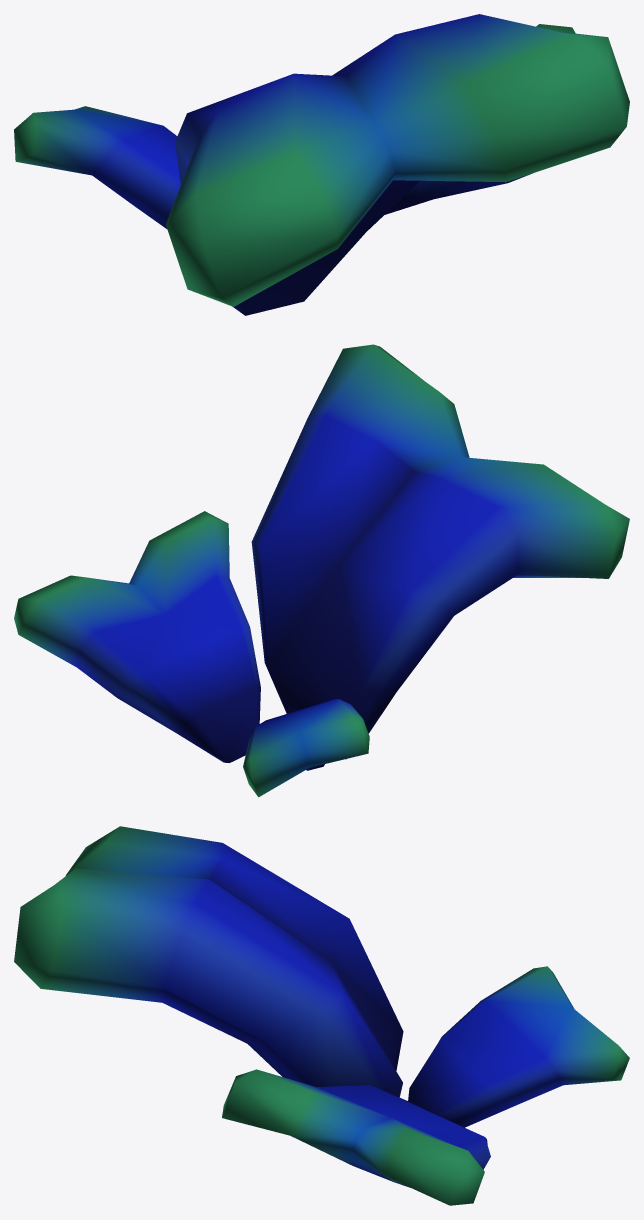
The model's file is Alien_Grass08.fbx.
3 views of the same model, one above another, from view 1: azimuth 30°, elevation 25°; view 2: azimuth 150°, elevation 25°; view 3: azimuth 270°, elevation 25° (orthographic). The views are drawn at different scales.
Visible parts, largest first — view 1: Alien_Grass08; view 2: Alien_Grass08; view 3: Alien_Grass08.
Boxes of the visible parts, x1=… form: Alien_Grass08: x1=14, y1=14, x2=629, y2=315; Alien_Grass08: x1=14, y1=344, x2=629, y2=797; Alien_Grass08: x1=14, y1=826, x2=629, y2=1205.
Bounding box in the file's own units: 1654 × 975 × 1678.
